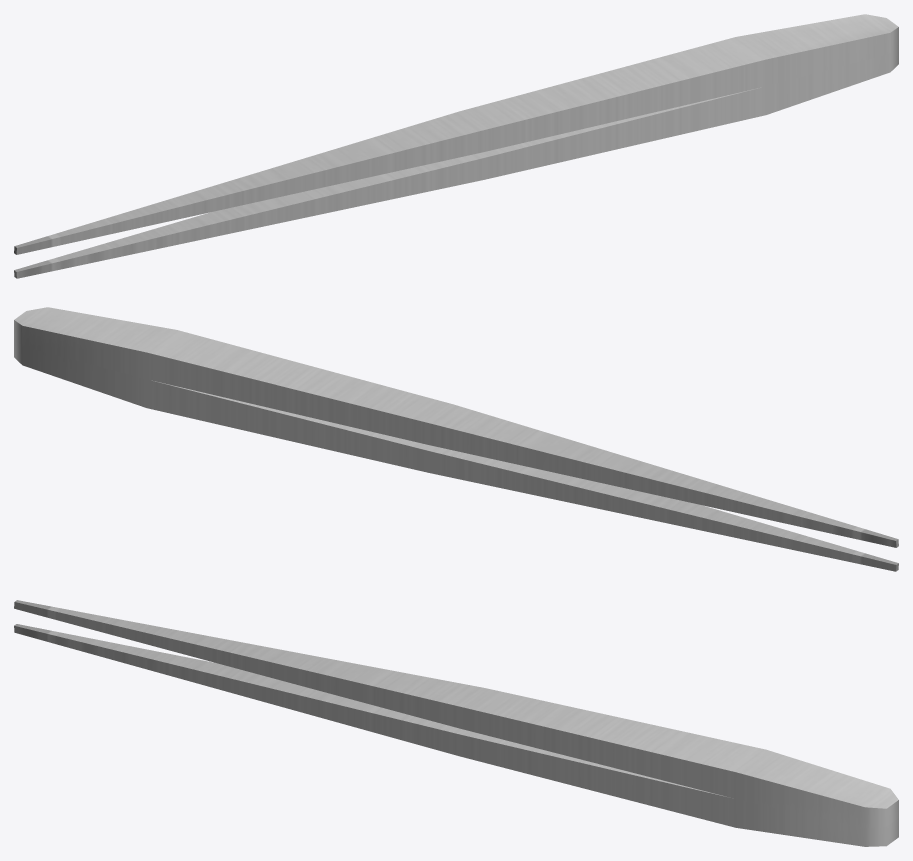
File: tweezers_long.FBX
The picture shows the model from 3 angles, top to bottom: view 1: azimuth 30°, elevation 25°; view 2: azimuth 150°, elevation 25°; view 3: azimuth 330°, elevation 25°; orthographic projection.
Parts seen in each view (by area): view 1: tweezers_long; view 2: tweezers_long; view 3: tweezers_long.
Part boxes in pixels (x1=…): tweezers_long: x1=14, y1=14, x2=898, y2=278; tweezers_long: x1=14, y1=307, x2=898, y2=571; tweezers_long: x1=14, y1=600, x2=898, y2=846.
Bounding box in the file's own units: 176 × 10.66 × 10.67.
1 material, 1 textured.
